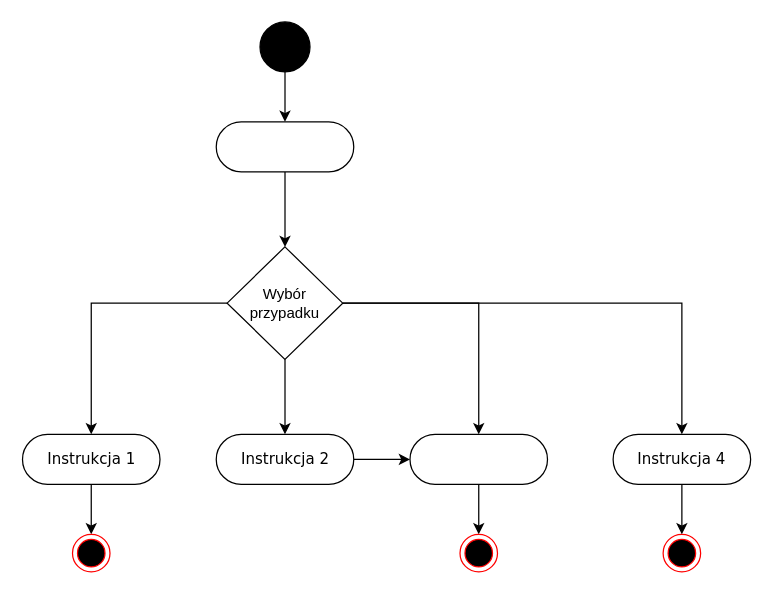
Some shapes in this 773 by 594 pixel diagram are drawn without their labels. The centre of each missing label's shape, as x and y in pixels:
inicjowanie zeminnej: (284,146)
Instrukcja 3: (478,458)
